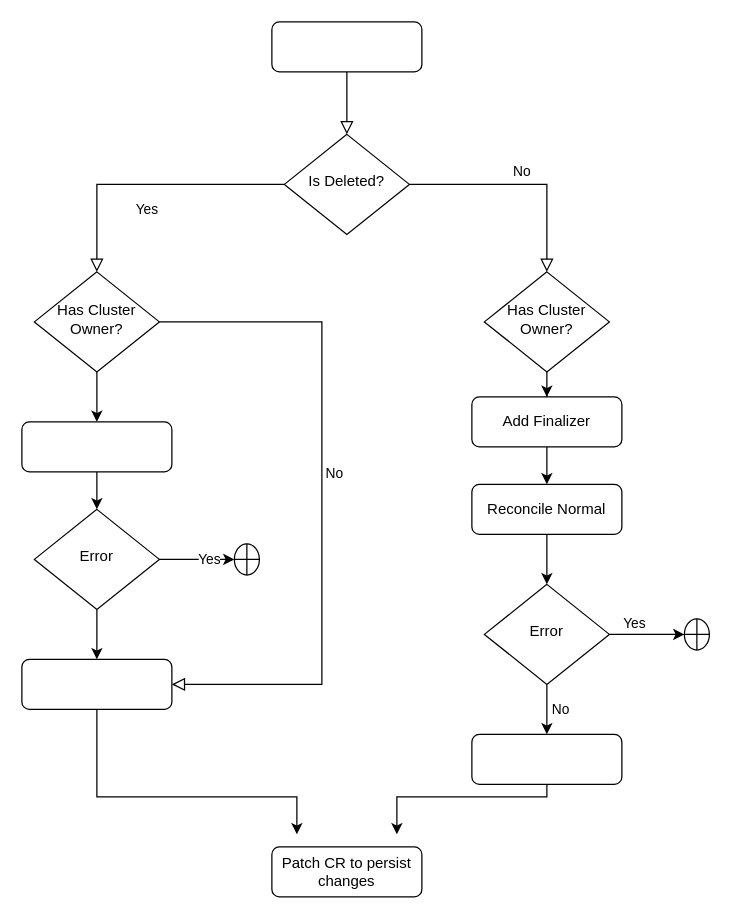
This 731x919 diagram has some shape labels left out. The box of each missing label's shape, as (x1, y1, x2, y2) in pixels:
Delete Finalizer: (21, 658, 172, 709)
New/Updated/Deleted Resouce: (271, 21, 422, 72)
Reconcile Deletion: (21, 421, 172, 472)
Set status to true: (471, 733, 622, 784)
